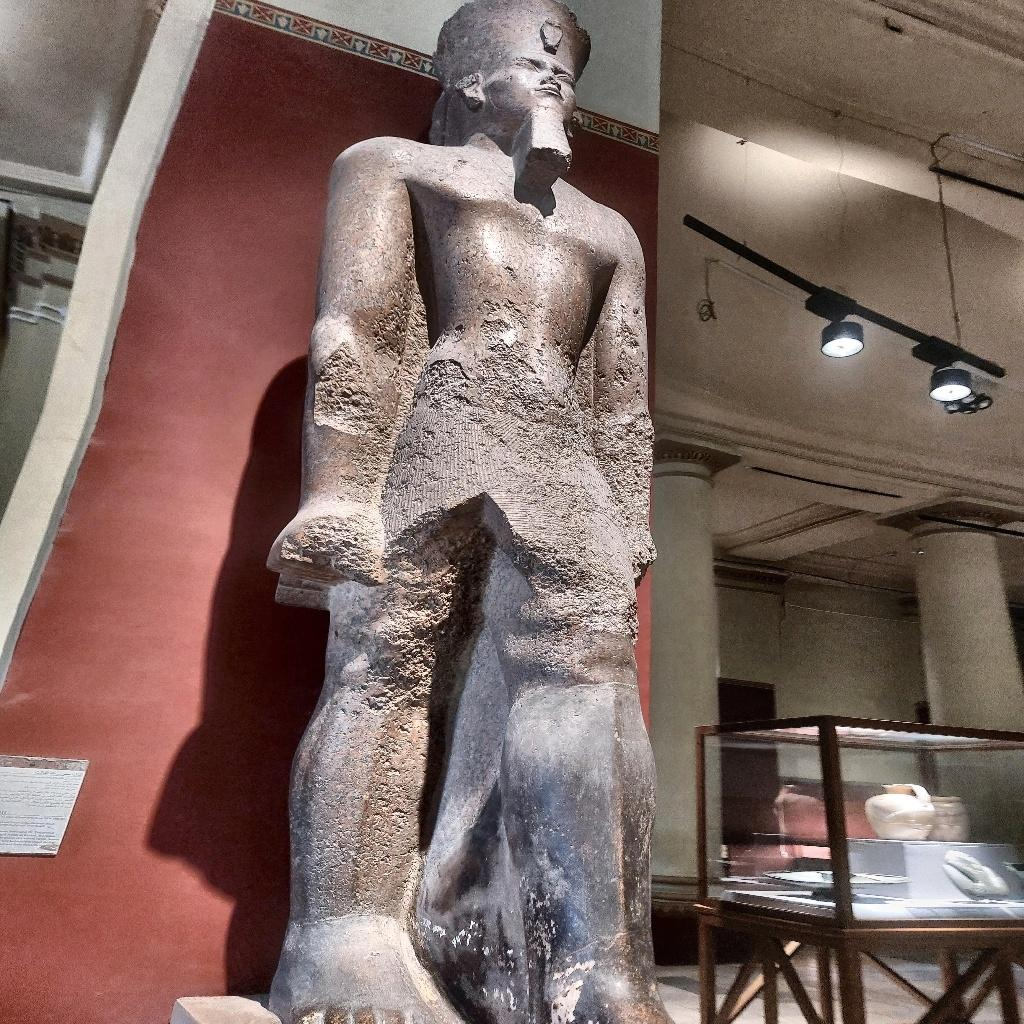Senwosret III: (260, 2, 672, 1021)
